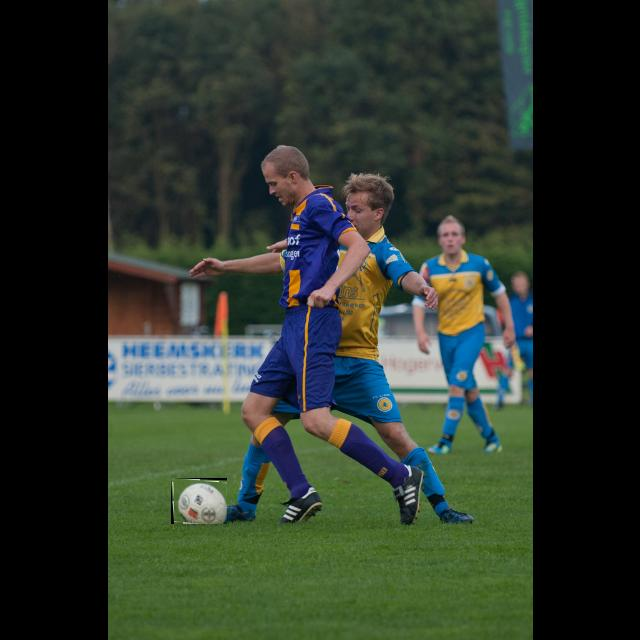Football: (171, 478, 227, 524)
